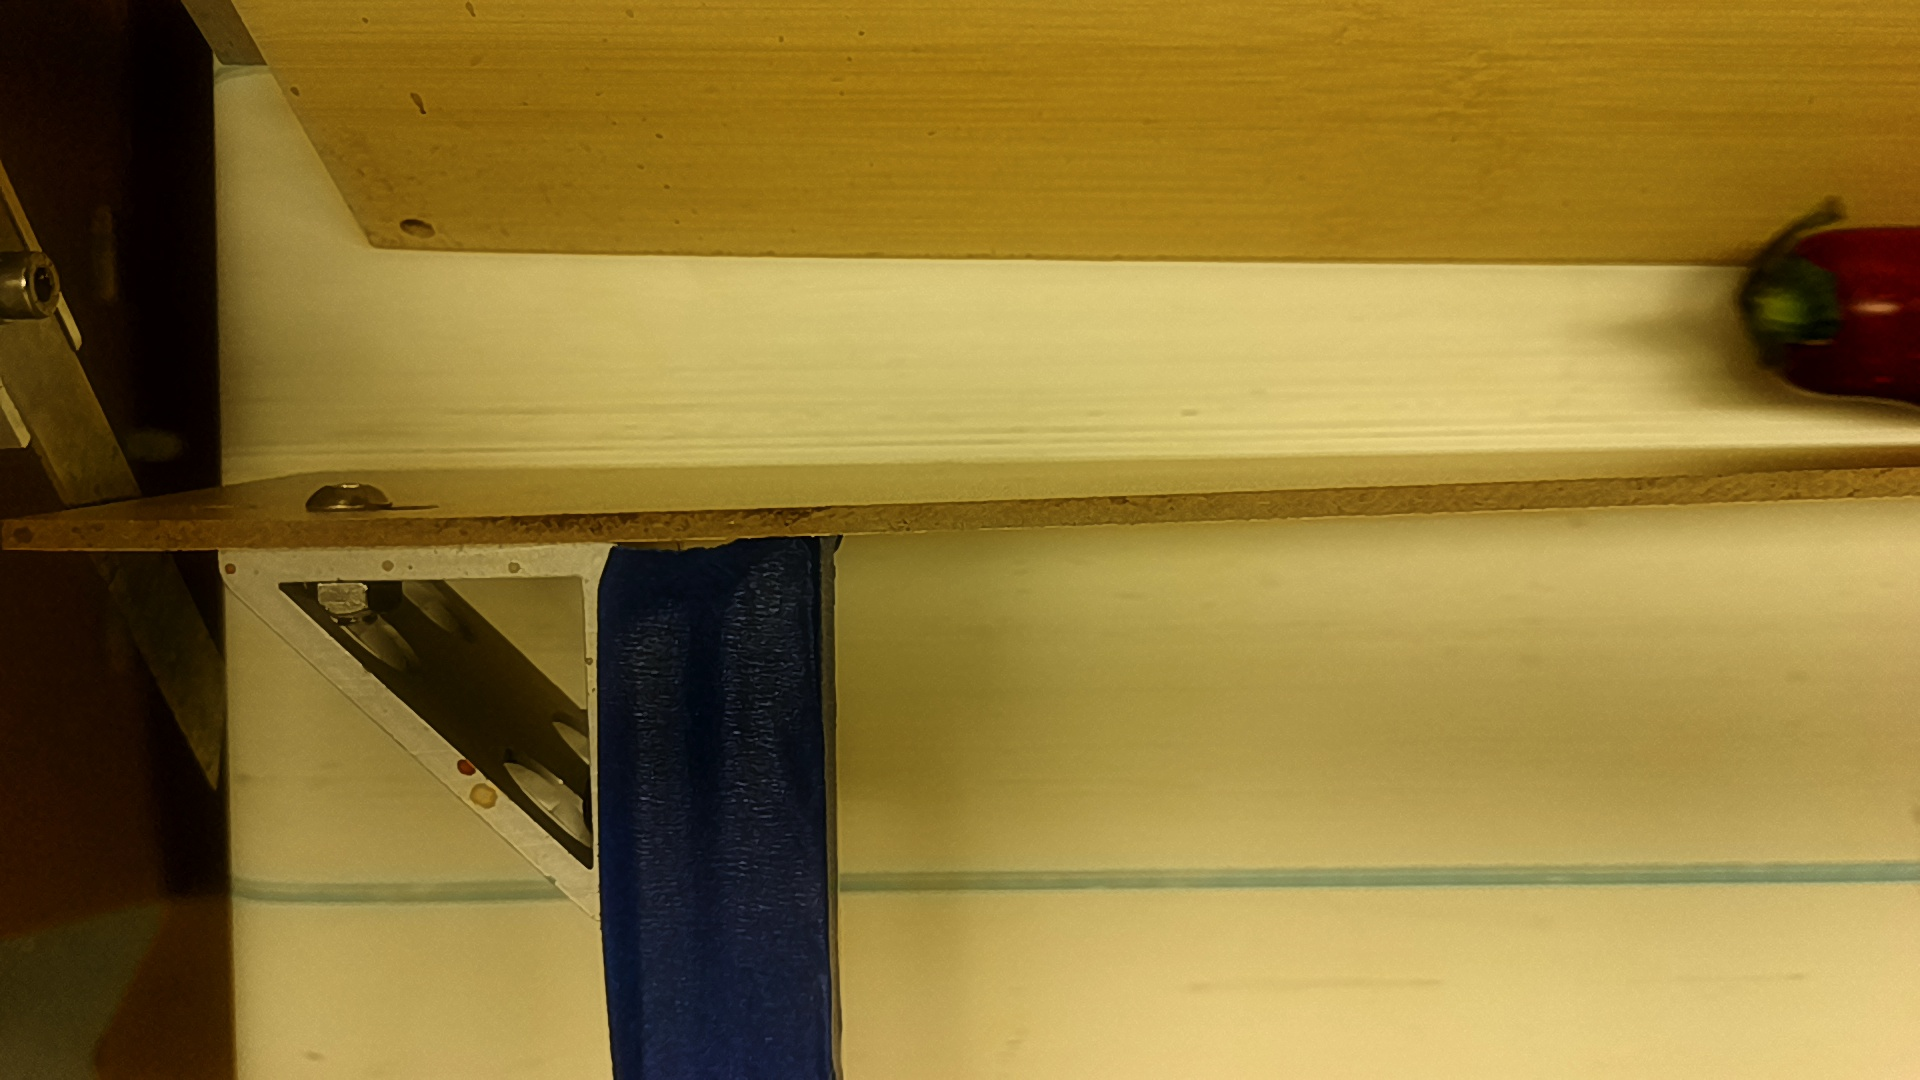Cut Point: (1745, 214, 1859, 407)
